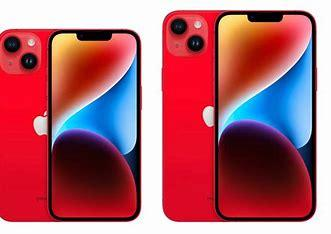-iphone13: (157, 6, 323, 224), (0, 22, 152, 229)
